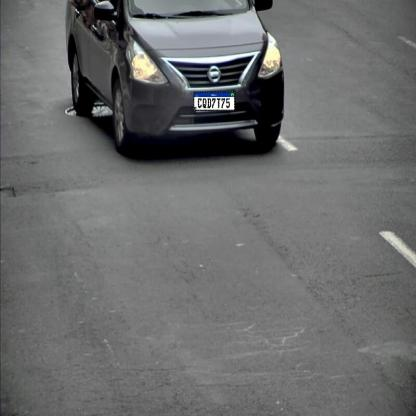PlacaM: (193, 91, 235, 111)
